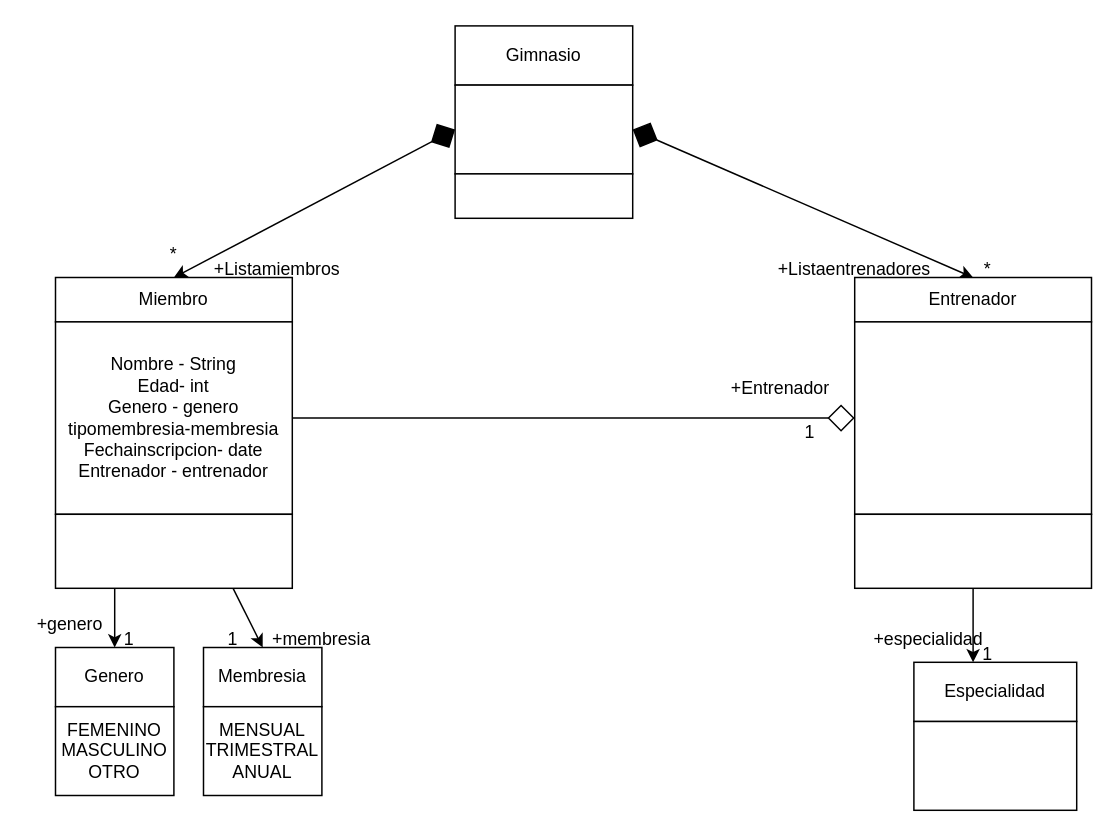
Image size: 1117x836. Some labels were removed from this diagram. The shapes that lost their labels are listed below. From the top down, each one's box as (x1, y1, x2, y2) in pixels, then its label:
(454, 84, 633, 174): Nombre -String
(454, 172, 633, 218): CRUD
(853, 320, 1092, 514): Nombre - String Especialidad- especialidad telefono - string correo- string
(912, 720, 1077, 810): MUSCULACION PERDIDAGRASA ESTADOFISICO
